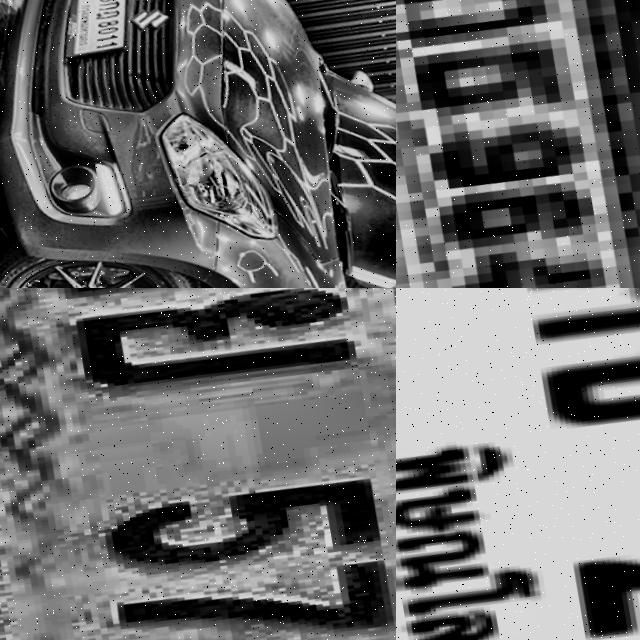license-plate: (0, 288, 396, 640), (396, 288, 640, 640), (396, 0, 640, 288), (56, 0, 138, 58)
